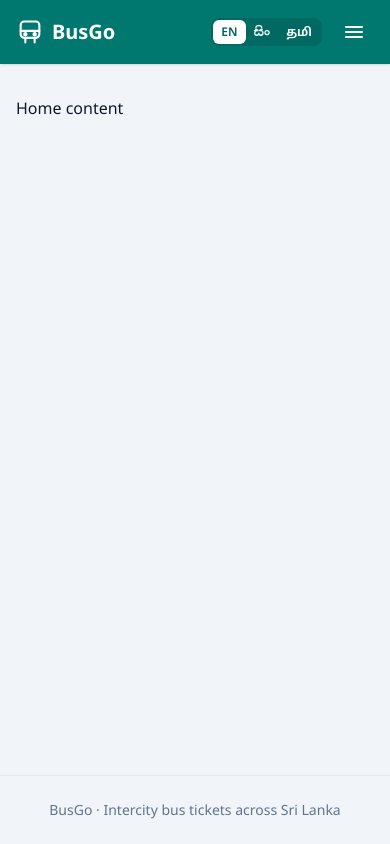
Test case: Layout › opens the mobile menu
Click the button named "Menu". click: (354, 32)
box: [334,12,374,52]
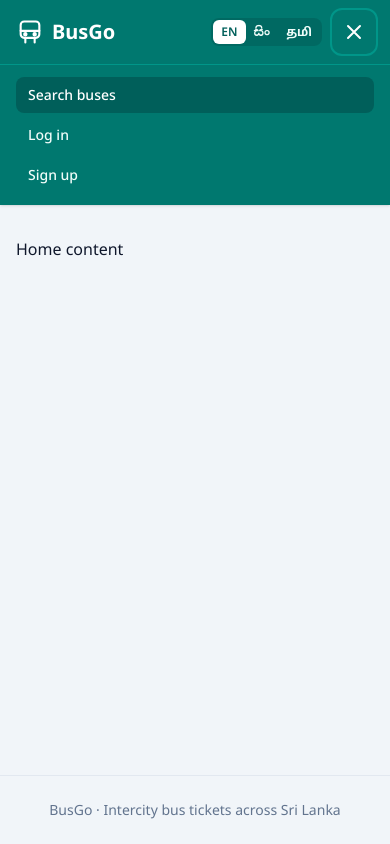
Expected: the button named "Menu" is expanded, [334,12,374,52]
Expected: the number of navigation bars "Main" is 2
